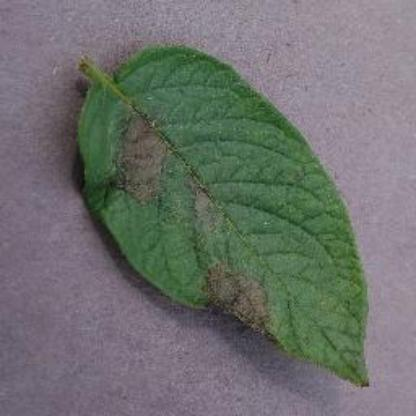Late-Blight: (66, 42, 376, 394)
